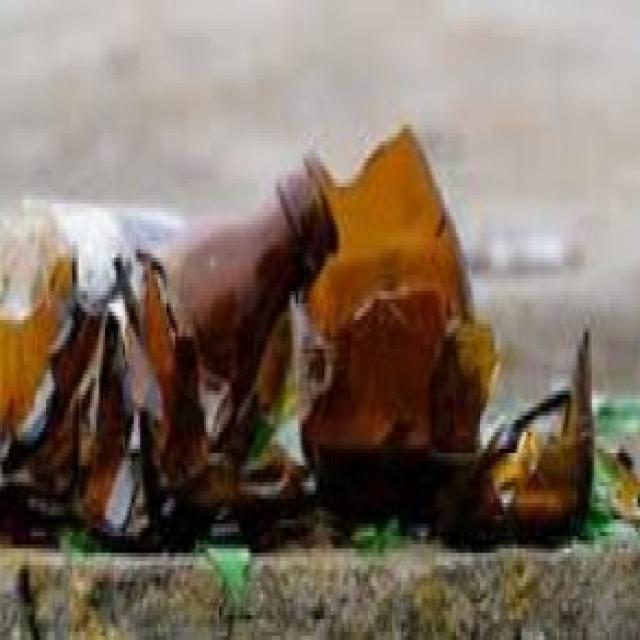electronic: (76, 154, 340, 540), (428, 318, 592, 559)
